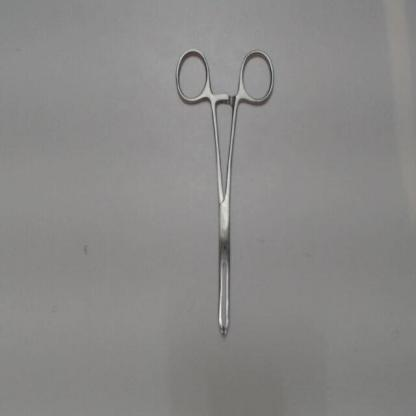Allis Tissue Forceps: (167, 40, 279, 348)
